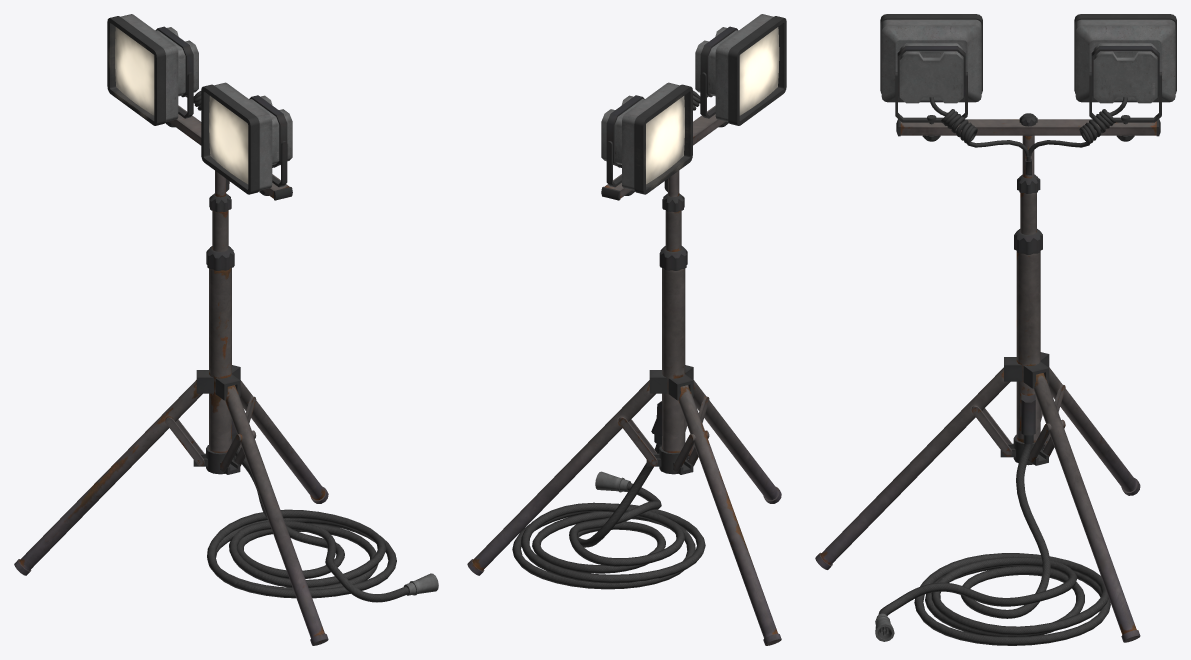
File: SM_WorkLight_On.fbx
The picture shows the model from 3 angles, left to right: view 1: azimuth 30°, elevation 25°; view 2: azimuth 150°, elevation 25°; view 3: azimuth 270°, elevation 25°; orthographic projection. The views are drawn at different scales.
Visible parts, largest first — view 1: SM_WorkLight_On_LOD0; view 2: SM_WorkLight_On_LOD0; view 3: SM_WorkLight_On_LOD0.
Boxes of the visible parts, box(x1,y1,x2,y2) form: SM_WorkLight_On_LOD0: box(14, 14, 438, 645); SM_WorkLight_On_LOD0: box(467, 14, 786, 645); SM_WorkLight_On_LOD0: box(815, 14, 1176, 645).
Size of the model in its own units: 98.11 by 95.19 by 155.
Materials: 1 (1 with a texture image).
